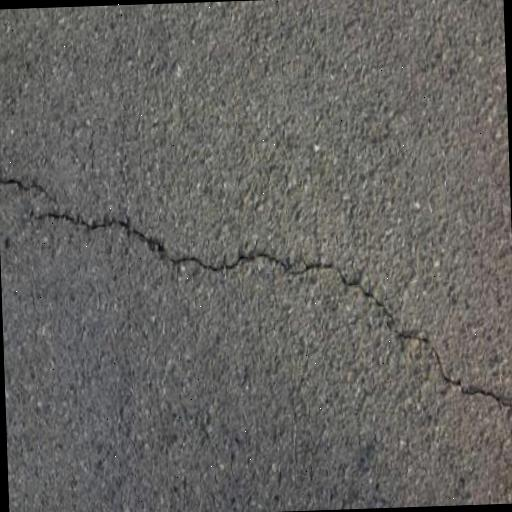spalling: (2, 154, 508, 422)
